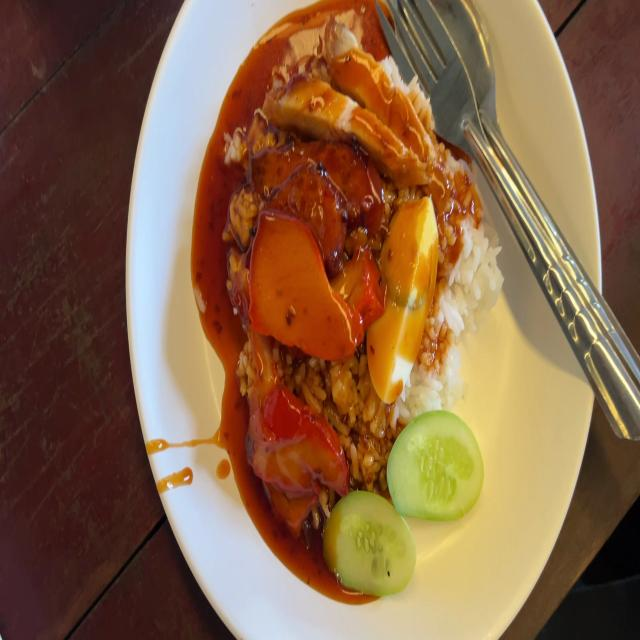01boiled_egg: (373, 194, 435, 405)
01chainese_sausage: (276, 123, 380, 250)
01crispy_pork: (278, 27, 443, 192)
01red_pork: (254, 209, 359, 360), (246, 375, 338, 520)
01red_pork_and_crispy_pork: (224, 24, 506, 600)
cucumber: (384, 411, 486, 515), (328, 489, 407, 587)
